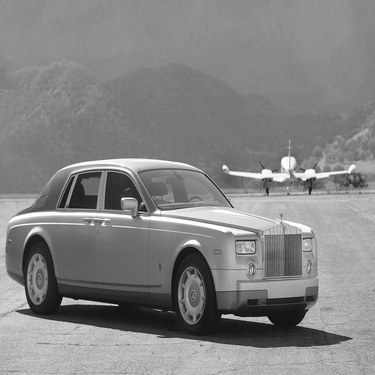airplane: (208, 107, 364, 202)
car: (3, 156, 327, 324)
